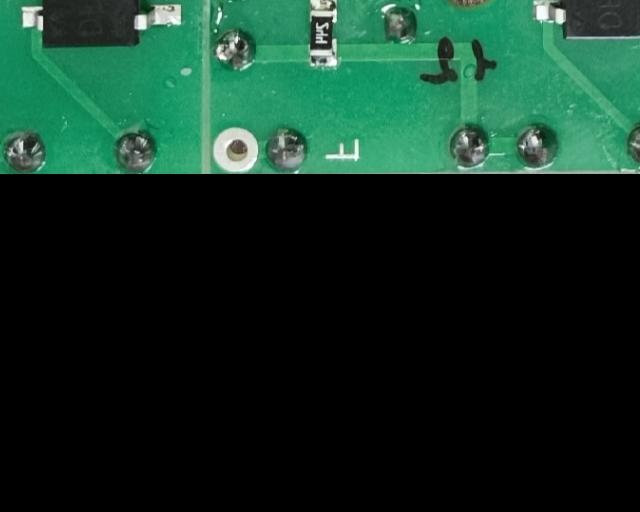chip-resistor: (305, 0, 339, 70)
